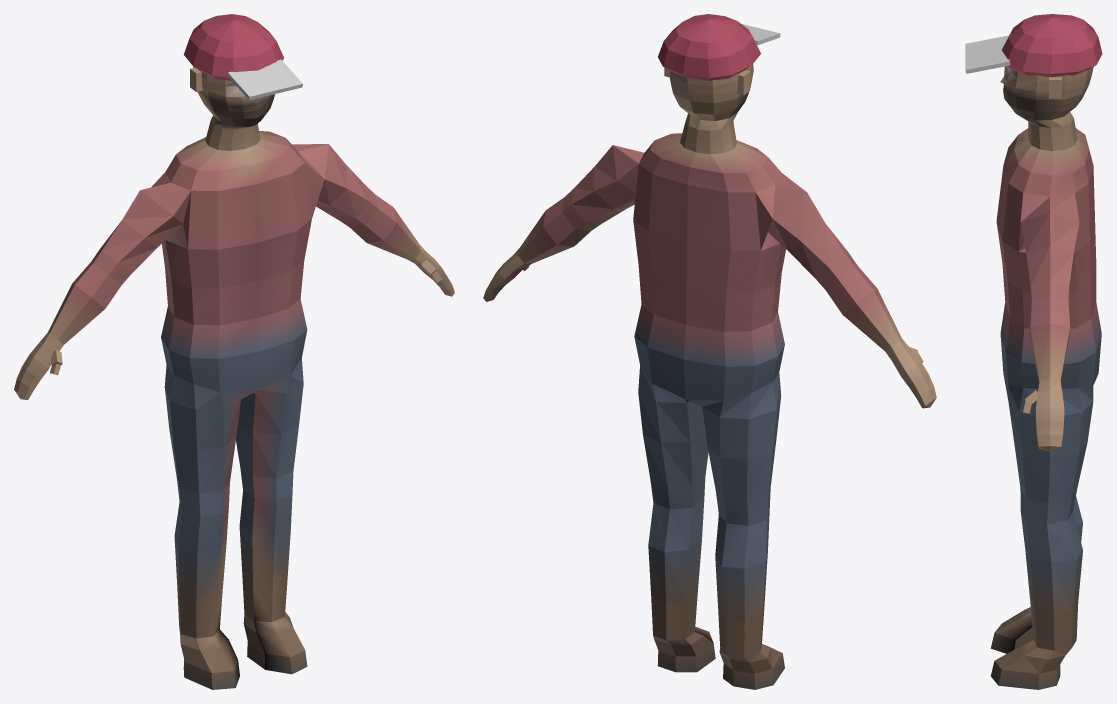
Rendered from char__pessoa__multidao_15.glb.
3 views of the same model, side by side, from view 1: azimuth 30°, elevation 25°; view 2: azimuth 150°, elevation 25°; view 3: azimuth 270°, elevation 25° (orthographic). The views are drawn at different scales.
Visible parts, largest first — view 1: char__pessoa__multidao_15; view 2: char__pessoa__multidao_15; view 3: char__pessoa__multidao_15.
Part boxes in pixels (x1,y1,x2,y2): char__pessoa__multidao_15: (14,14,454,689); char__pessoa__multidao_15: (483,14,936,689); char__pessoa__multidao_15: (965,14,1102,689).
Size of the model in its own units: 1.31 by 1.86 by 0.3557.
